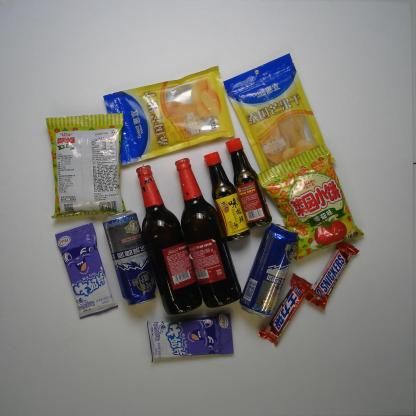Alcohol: (173, 156, 243, 309), (135, 164, 203, 316), (238, 221, 298, 320), (102, 210, 158, 306)
Candy: (55, 222, 118, 320), (147, 312, 235, 362)
Chocolate: (255, 273, 313, 348), (304, 239, 360, 311)
Dried Fruit: (223, 52, 338, 178), (101, 64, 236, 166)
Puffed Food: (255, 144, 365, 262), (46, 112, 128, 220)
Seasoner: (225, 135, 273, 229), (203, 150, 251, 244)
